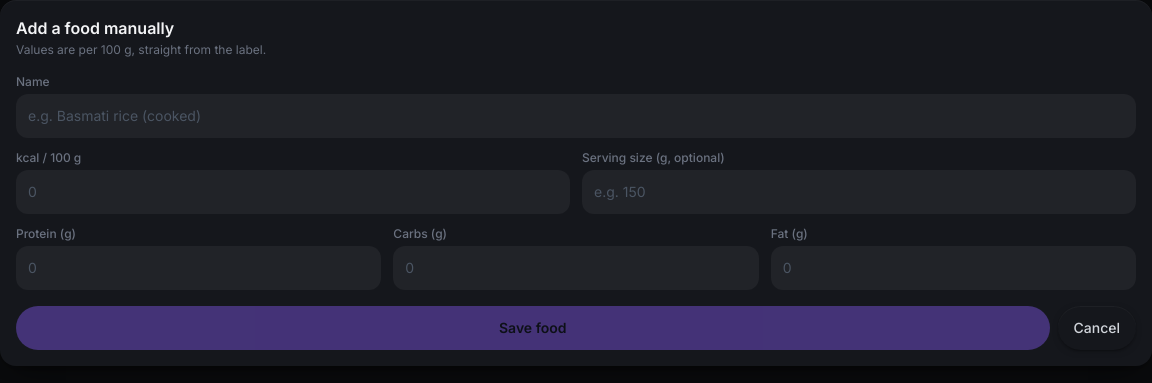
ManualFoodForm › disables save until name and kcal are present
expect the button with test id "mf-save" is disabled: met, box left=16, top=306, right=1050, bottom=350
Type "Dal" into the field with test id "mf-name".
click(576, 116); type("Dal")  # box left=16, top=94, right=1136, bottom=138
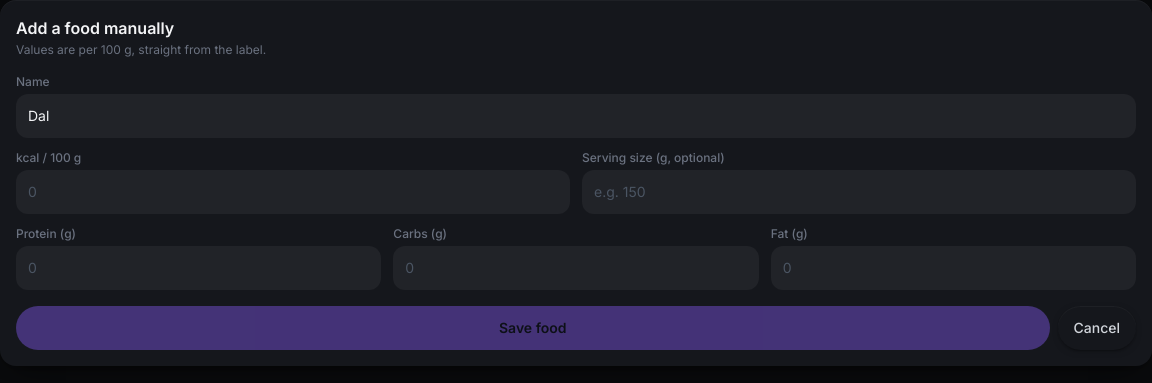
expect the button with test id "mf-save" is disabled: met, box left=16, top=306, right=1050, bottom=350
Type "120" into the field with test id "mf-kcal".
click(293, 192); type("120")  # box left=16, top=170, right=570, bottom=214
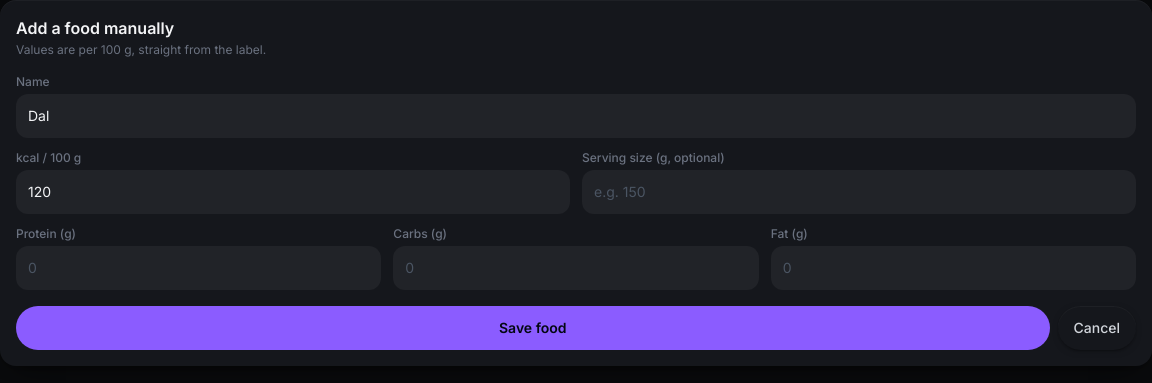
expect the button with test id "mf-save" is enabled: met, box left=16, top=306, right=1050, bottom=350
